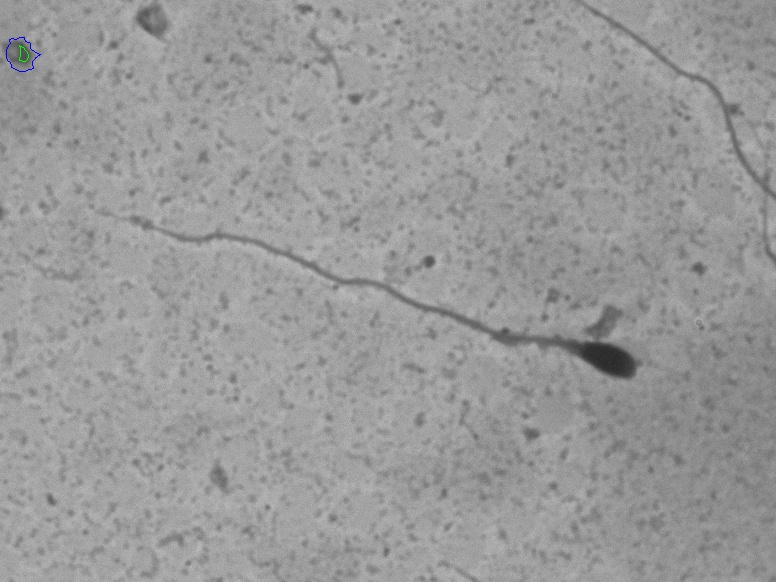Abnormal: (94, 186, 668, 420)
